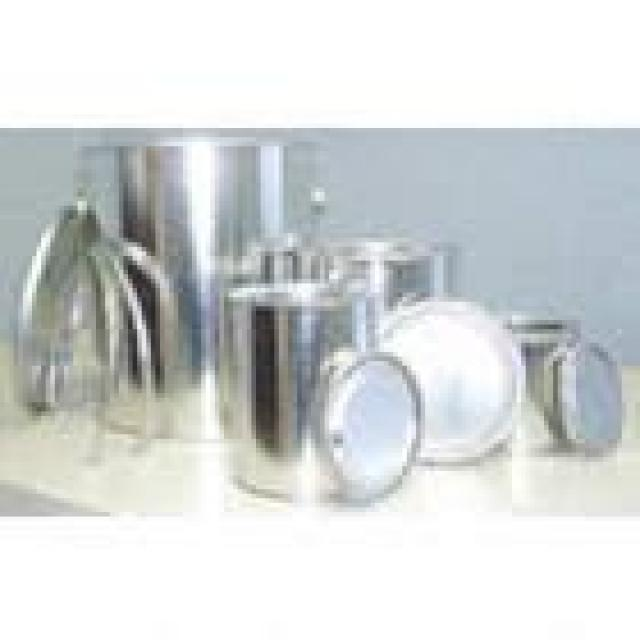metel: (19, 138, 358, 445), (218, 257, 429, 518), (472, 275, 632, 490)
